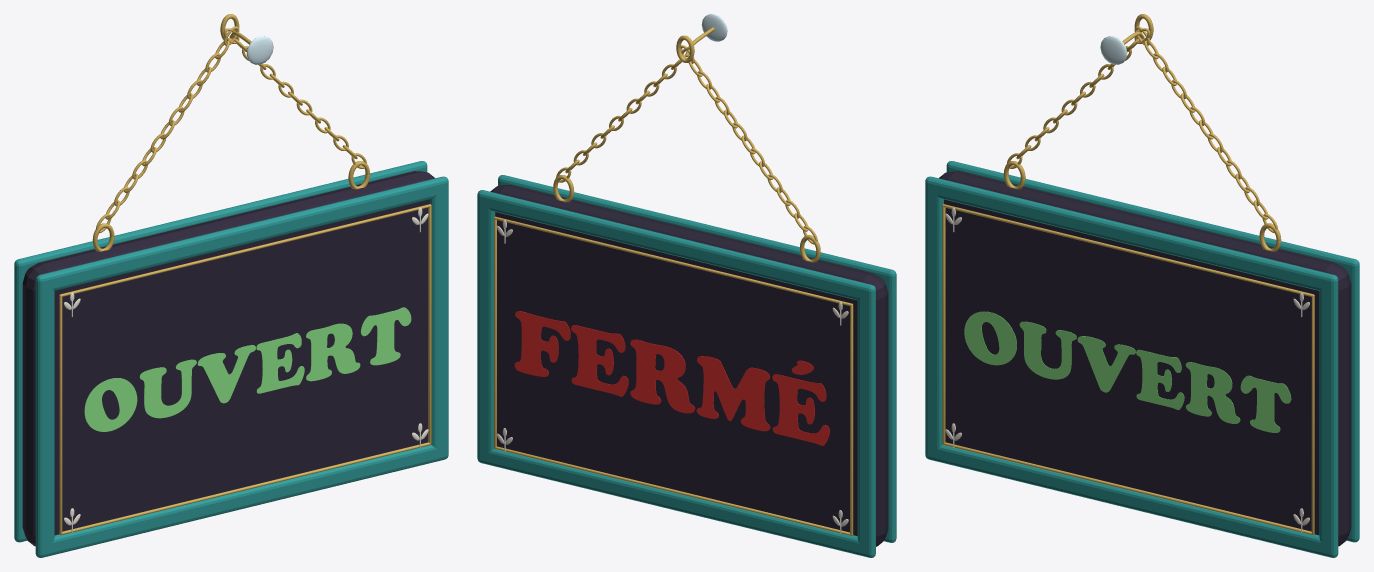
The model's file is botanical_open_sign.glb.
The picture shows the model from 3 angles, left to right: view 1: azimuth 30°, elevation 25°; view 2: azimuth 150°, elevation 25°; view 3: azimuth 330°, elevation 25°; orthographic projection. The views are drawn at different scales.
Visible parts, largest first — view 1: Solid_rounded_case, Printed_open_text, Teal_horizontal_frame.003, Teal_horizontal_frame.002, Teal_vertical_frame.002, Teal_vertical_frame.003, Teal_horizontal_frame.001, Teal_vertical_frame.001, Gold_frame_bead.007, Gold_frame_bead.005, Gold_frame_bead.004, Gold_frame_bead.006 (+1 smaller); view 2: Solid_rounded_case, Printed_closed_text, Teal_horizontal_frame.001, Teal_horizontal_frame, Teal_vertical_frame.001, Teal_vertical_frame, Teal_horizontal_frame.003, Teal_vertical_frame.002, Gold_frame_bead.003, Gold_frame_bead.001, Gold_frame_bead.002, Gold_frame_bead (+1 smaller); view 3: Solid_rounded_case, Printed_open_text, Teal_horizontal_frame.003, Teal_horizontal_frame.002, Teal_vertical_frame.003, Teal_vertical_frame.002, Teal_horizontal_frame.001, Teal_vertical_frame, Gold_frame_bead.007, Gold_frame_bead.005, Gold_frame_bead.006, Gold_frame_bead.004 (+1 smaller).
Part boxes in pixels (x1,y1,x2,y2): Solid_rounded_case: (22, 171, 434, 546); Printed_open_text: (84, 307, 411, 431); Teal_horizontal_frame.003: (35, 176, 448, 291); Teal_horizontal_frame.002: (35, 445, 448, 557); Teal_vertical_frame.002: (35, 289, 54, 545); Teal_vertical_frame.003: (430, 191, 448, 449); Teal_horizontal_frame.001: (14, 161, 427, 275); Teal_vertical_frame.001: (14, 274, 24, 530); Gold_frame_bead.007: (59, 204, 431, 296); Gold_frame_bead.005: (59, 442, 430, 534); Gold_frame_bead.004: (59, 294, 62, 535); Gold_frame_bead.006: (428, 204, 431, 444); Solid_rounded_case: (490, 184, 888, 546); Printed_closed_text: (514, 311, 829, 445); Teal_horizontal_frame.001: (477, 190, 875, 300); Teal_horizontal_frame: (477, 448, 875, 557); Teal_vertical_frame.001: (857, 298, 875, 546); Teal_vertical_frame: (477, 204, 495, 452); Teal_horizontal_frame.003: (498, 175, 896, 285); Teal_vertical_frame.002: (886, 284, 896, 531); Gold_frame_bead.003: (494, 216, 853, 305); Gold_frame_bead.001: (494, 446, 853, 535); Gold_frame_bead.002: (850, 303, 853, 535); Gold_frame_bead: (494, 217, 496, 448); Solid_rounded_case: (939, 171, 1351, 546); Printed_open_text: (964, 311, 1291, 432); Teal_horizontal_frame.003: (925, 176, 1338, 290); Teal_horizontal_frame.002: (925, 445, 1338, 557); Teal_vertical_frame.003: (1319, 288, 1338, 545); Teal_vertical_frame.002: (925, 191, 943, 449); Teal_horizontal_frame.001: (946, 161, 1359, 275); Teal_vertical_frame: (1349, 274, 1359, 530); Gold_frame_bead.007: (942, 204, 1314, 296); Gold_frame_bead.005: (943, 442, 1314, 534); Gold_frame_bead.006: (1311, 294, 1314, 535); Gold_frame_bead.004: (942, 204, 945, 444).
Size of the model in its own units: 0.58 by 0.653 by 0.1123.
